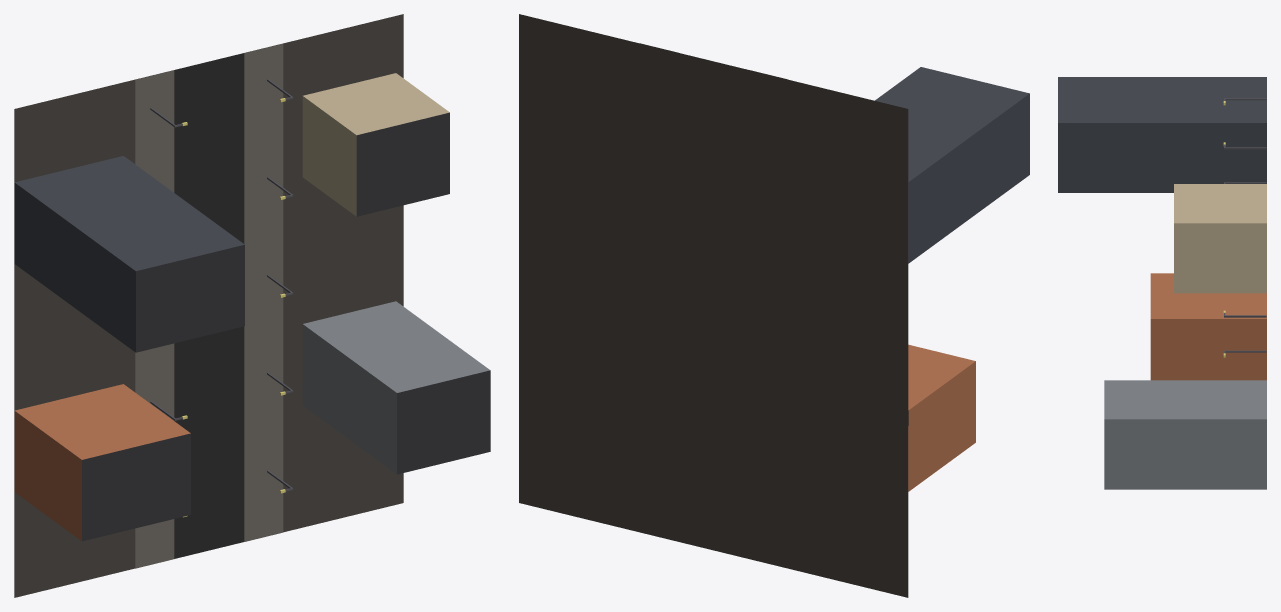
Rendered from night_street.obj.
3 views of the same model, side by side, from view 1: azimuth 30°, elevation 25°; view 2: azimuth 150°, elevation 25°; view 3: azimuth 270°, elevation 25° (orthographic). The views are drawn at different scales.
Bounding box in the file's own units: 50 × 60 × 27.02.
